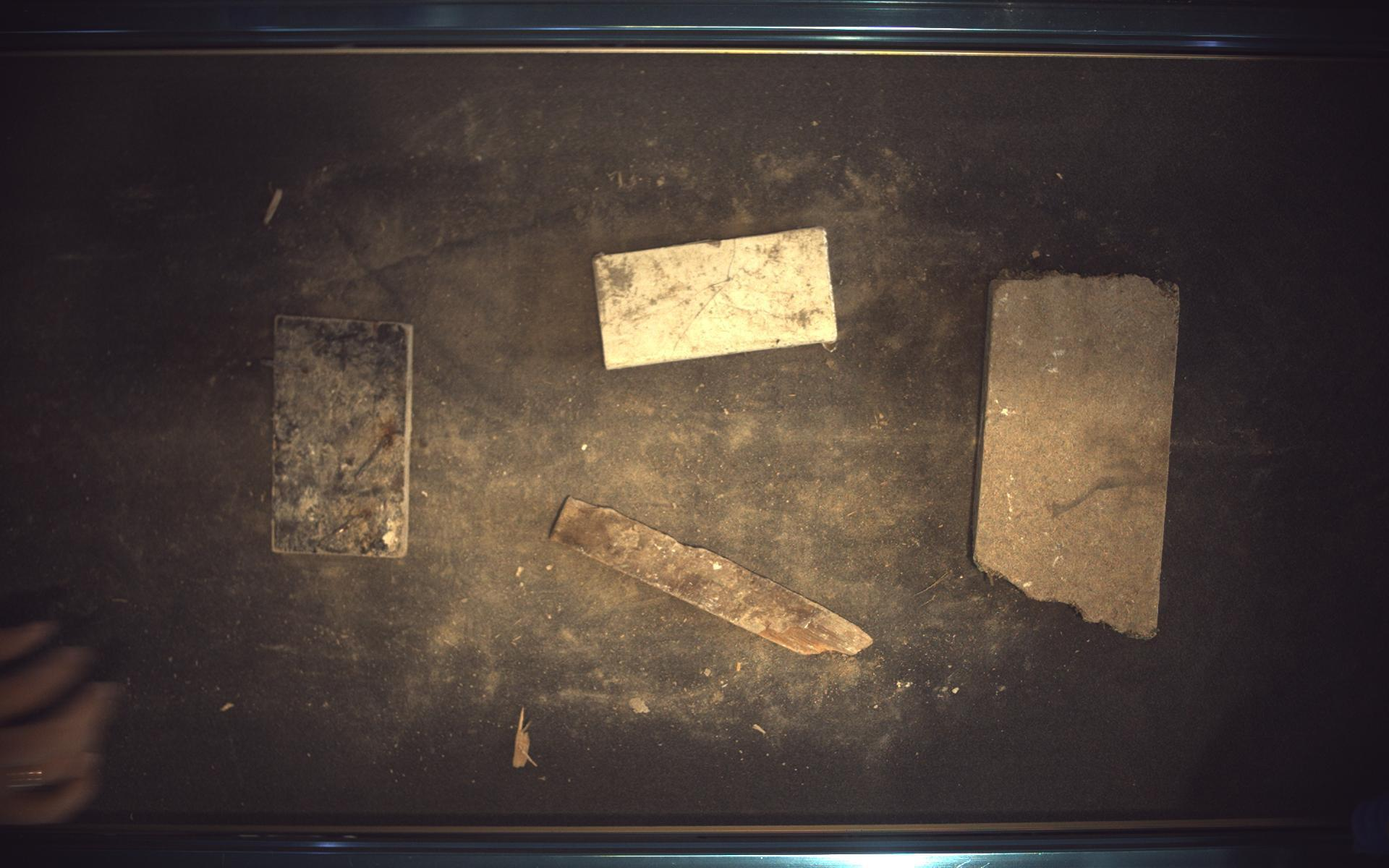wood: (975, 273, 1181, 639), (551, 498, 874, 656), (594, 227, 838, 370), (272, 315, 413, 559)
